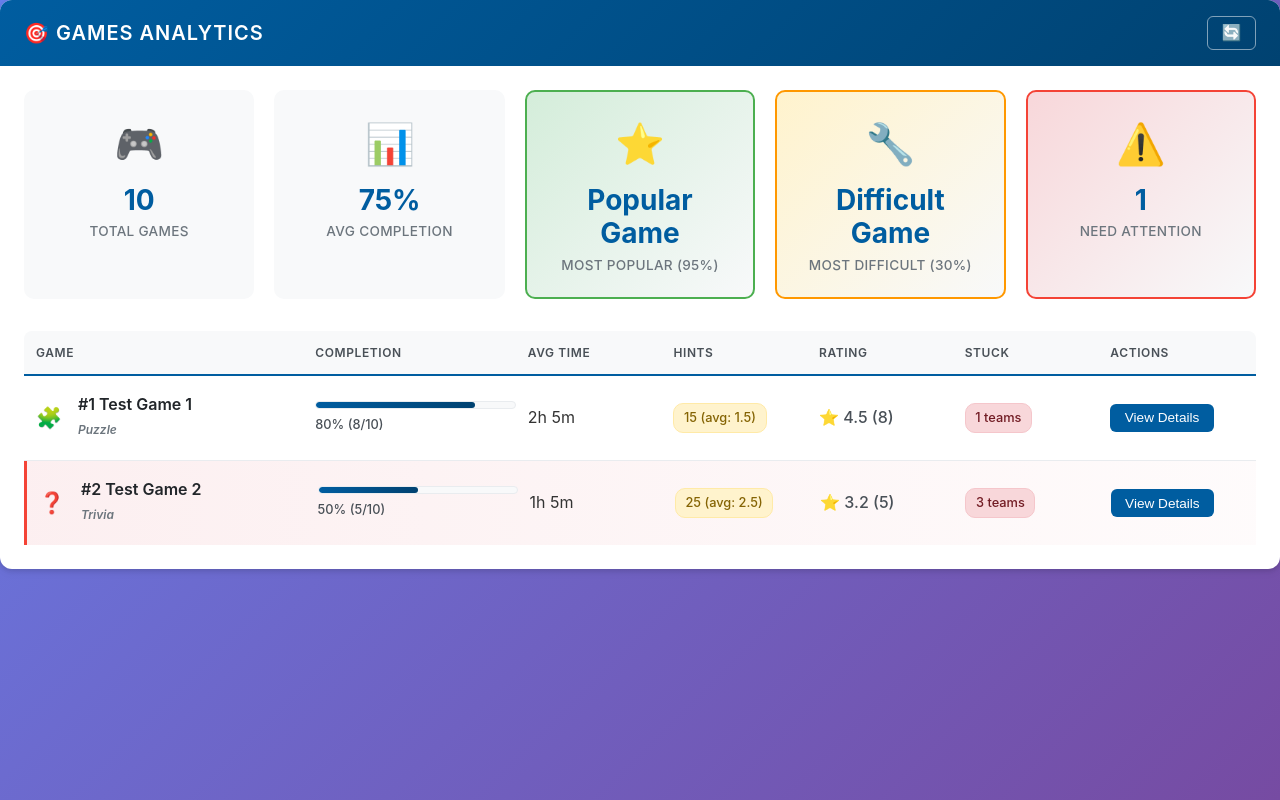
Scenario: GamesAnalyticsTab › Sorting Functionality › should sort by title when clicking title header
Expected: the text "#1 Test Game 1" is shown, x1=78 y1=392 x2=192 y2=418
What coordinates should you click on to do the following:
click the text "GAME"
I would click on:
 (55, 352)
Its box is x1=36 y1=345 x2=74 y2=360.
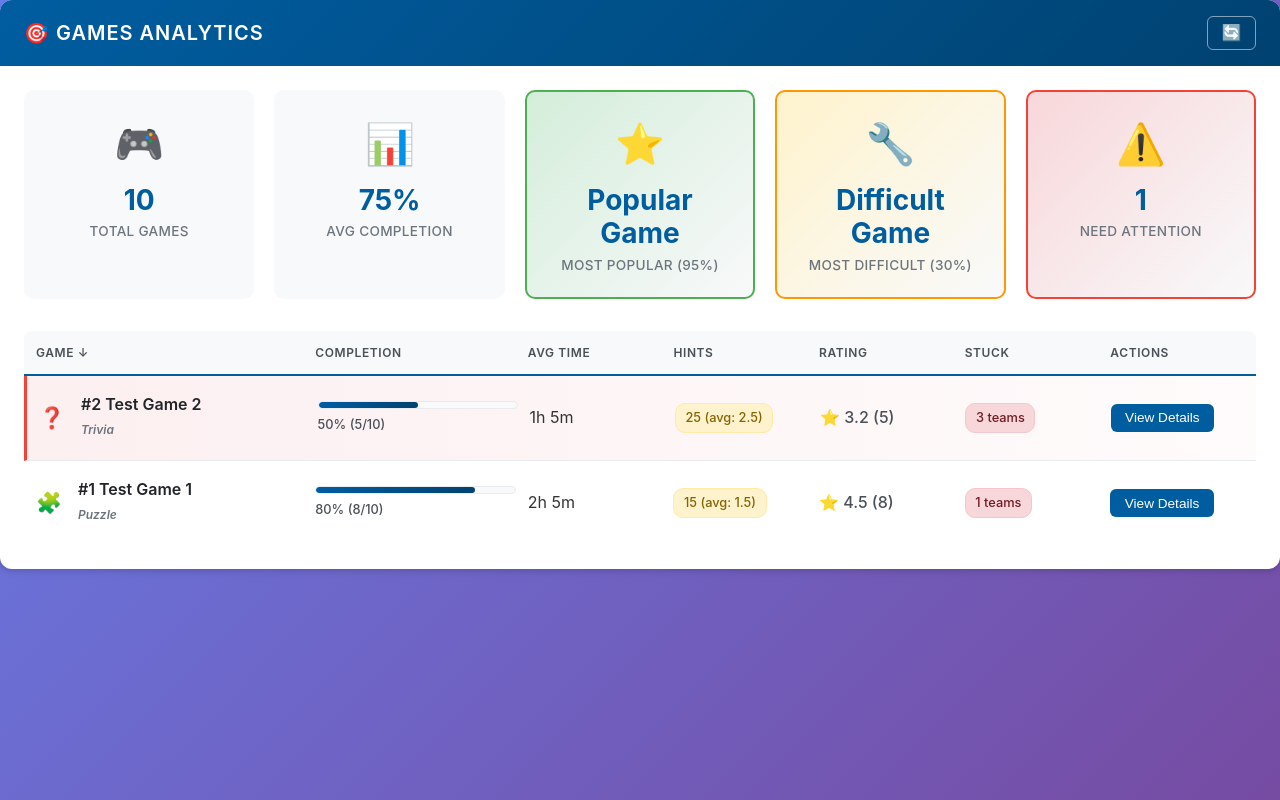
Expected: the text "GAME ↓" is shown, x1=36 y1=345 x2=89 y2=360
